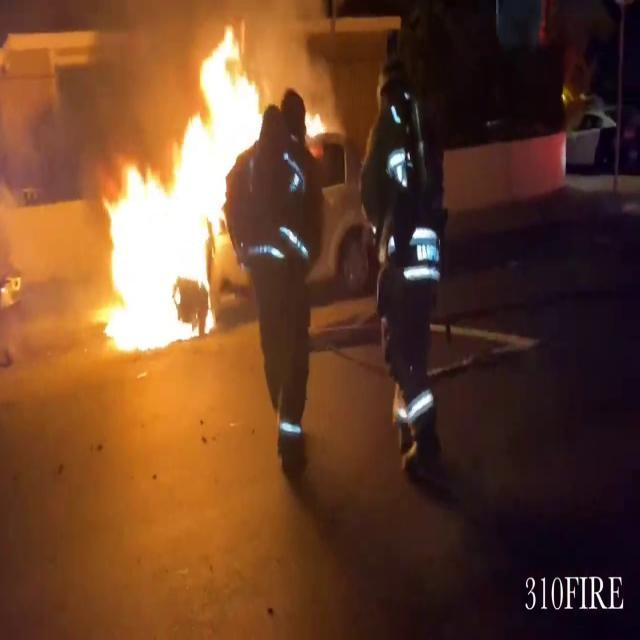Fire: (84, 19, 262, 357), (300, 99, 332, 147)
